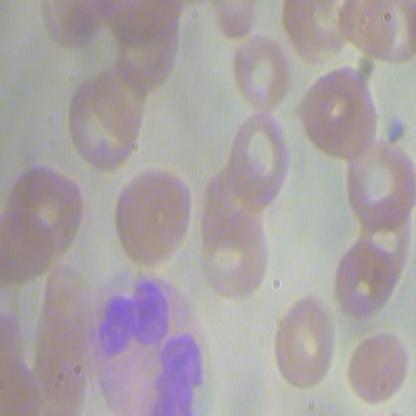Platelets: (383, 116, 407, 145)
RBC: (110, 155, 195, 275), (3, 163, 88, 274), (296, 60, 385, 159), (66, 67, 143, 170), (224, 107, 293, 212), (201, 202, 270, 307), (346, 131, 415, 232), (275, 291, 338, 393), (346, 310, 409, 412), (229, 34, 291, 117)
WBC: (81, 260, 218, 415)
